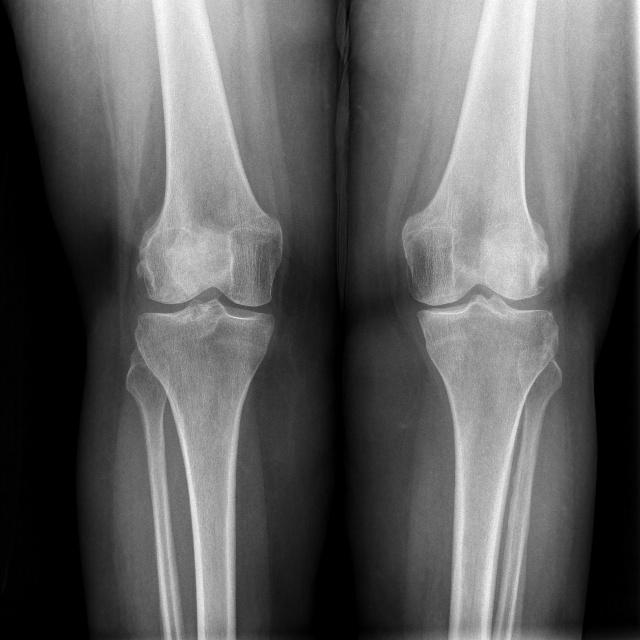Knee: (397, 231, 559, 362), (134, 234, 285, 367)
